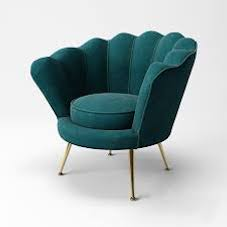chair: (21, 21, 197, 188)
